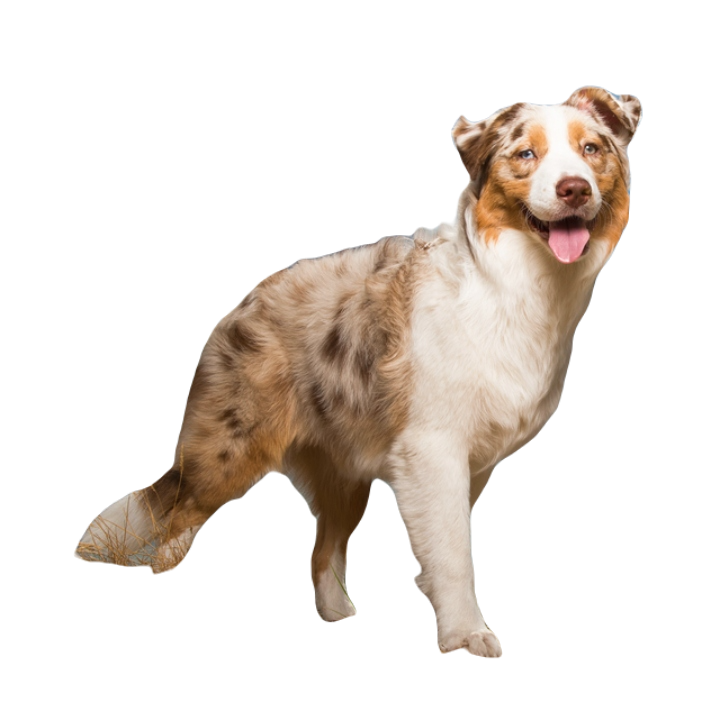Dog: (76, 82, 642, 656)
